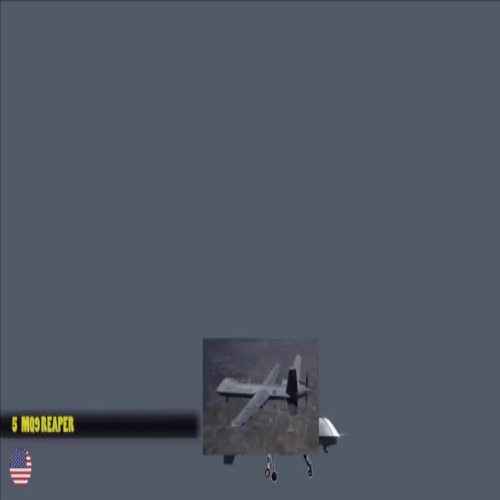uav898: (202, 351, 314, 432)
